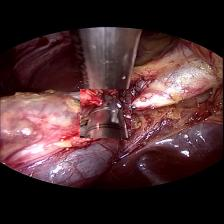Clipper: (80, 88, 131, 137)
